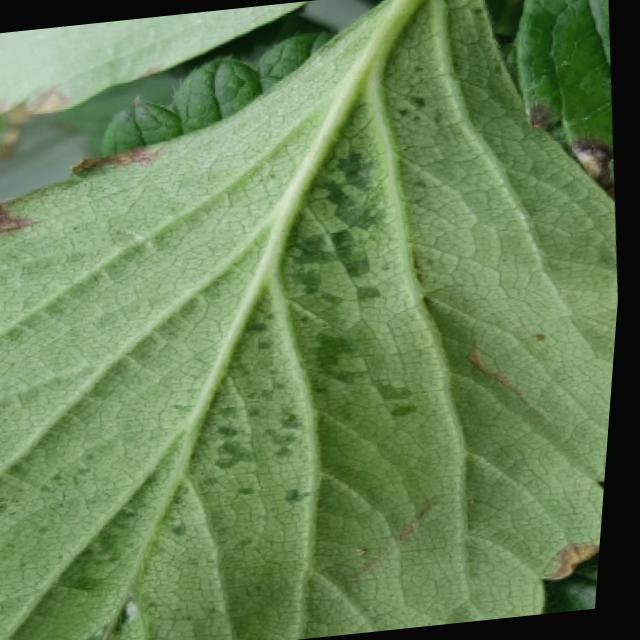Angular Leafspot: (0, 59, 441, 640), (555, 529, 609, 584)
